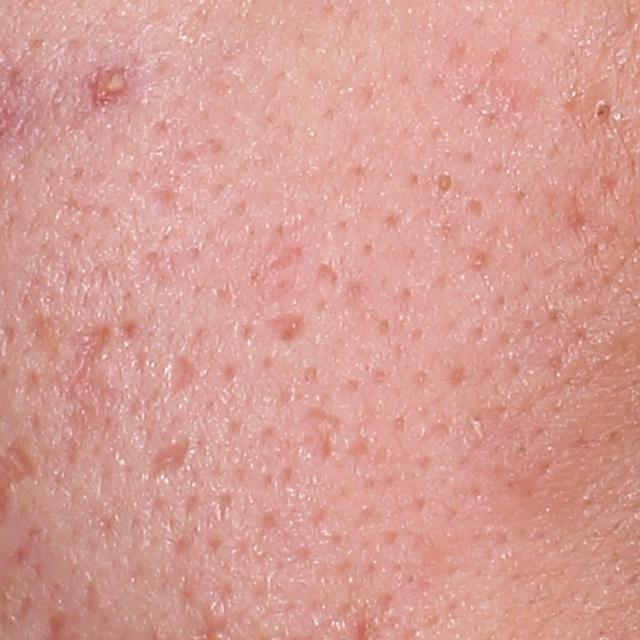atrophic_scar: (48, 321, 122, 466), (145, 431, 195, 486), (262, 306, 307, 354), (306, 406, 341, 467), (163, 351, 202, 404), (82, 581, 99, 614)
comedo: (586, 99, 617, 131), (435, 171, 457, 192)
pustule: (89, 68, 126, 104)
